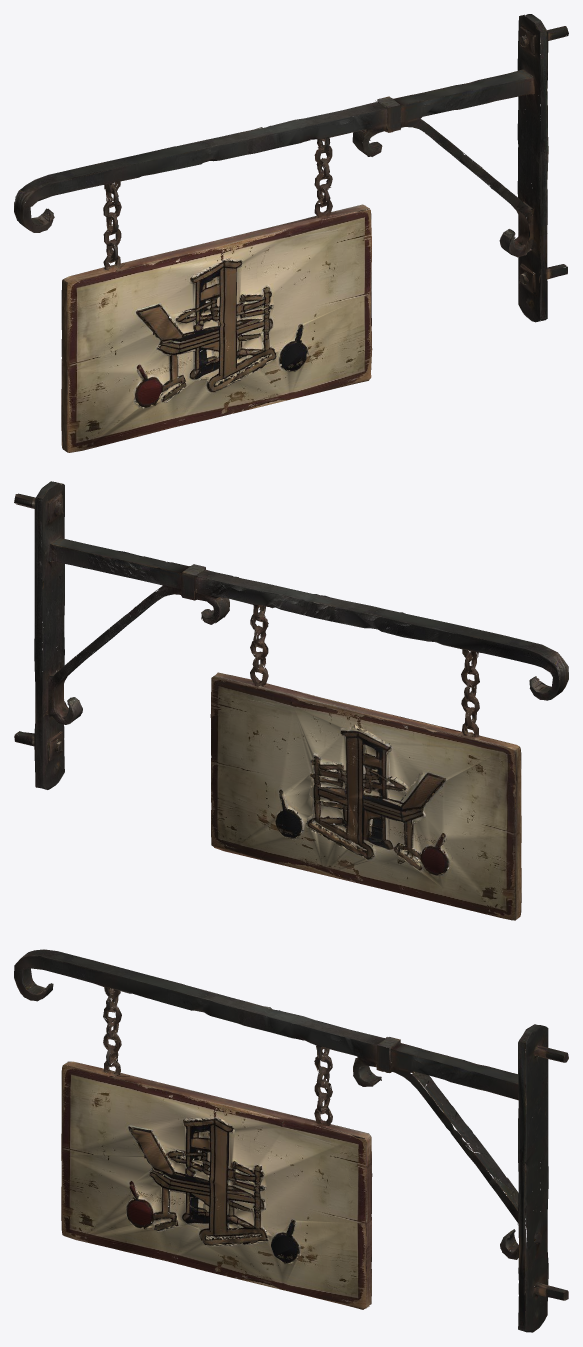
Rendered from printshop-hanging-sign.glb.
3 renders of one model, top to bottom at view 1: azimuth 30°, elevation 25°; view 2: azimuth 150°, elevation 25°; view 3: azimuth 330°, elevation 25°, orthographic.
Visible parts, largest first — view 1: PrintshopHangingSign; view 2: PrintshopHangingSign; view 3: PrintshopHangingSign.
Boxes of the visible parts, x1,y1,x2,y2 form: PrintshopHangingSign: (14, 14, 568, 452); PrintshopHangingSign: (14, 481, 568, 920); PrintshopHangingSign: (14, 949, 568, 1332).
Size of the model in its own units: 1.9 by 1.06 by 0.1422.
Materials: 1 (1 with a texture image).
